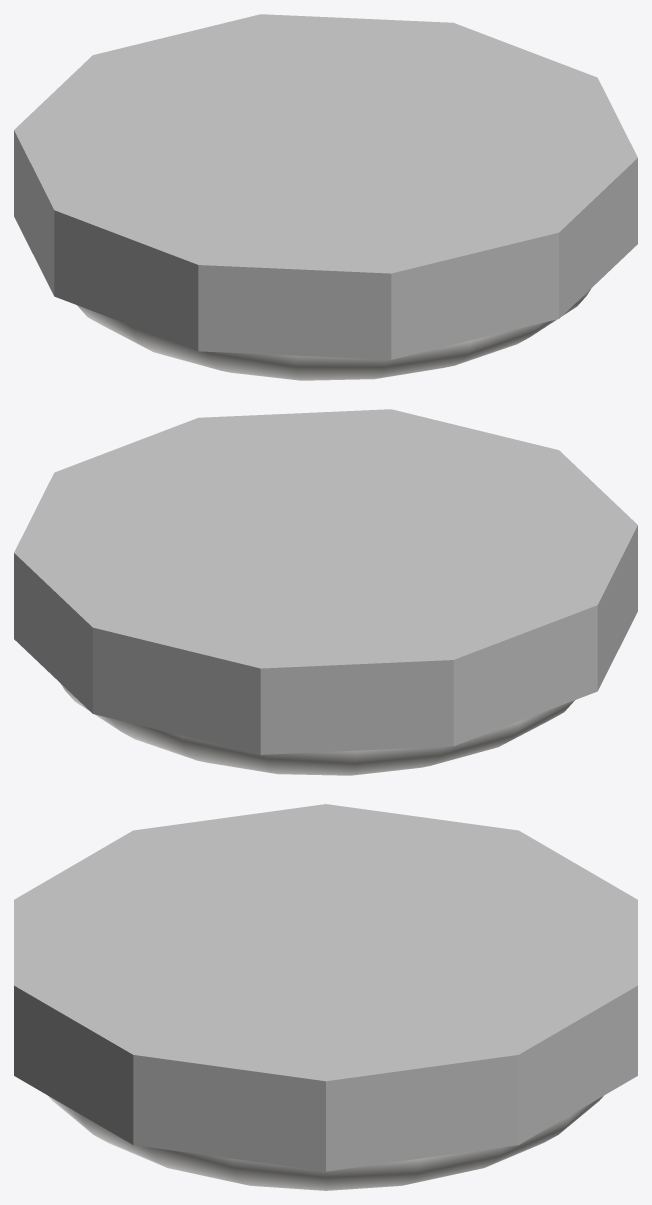
Rendered from Light2.fbx.
3 renders of one model, top to bottom at view 1: azimuth 30°, elevation 25°; view 2: azimuth 150°, elevation 25°; view 3: azimuth 270°, elevation 25°, orthographic. The views are drawn at different scales.
Visible parts, largest first — view 1: pSphere2; view 2: pSphere2; view 3: pSphere2.
Part boxes in pixels (left/top/right/bottom): pSphere2: left=14, top=14, right=637, bottom=380; pSphere2: left=14, top=409, right=637, bottom=775; pSphere2: left=14, top=804, right=637, bottom=1190.
Size of the model in its own units: 87.26 by 26.53 by 82.99.
